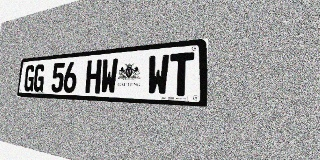5: (51, 62, 65, 93)
6: (63, 61, 78, 93)
G: (33, 64, 45, 92), (23, 65, 35, 92)
H: (85, 59, 102, 94)
T: (169, 52, 194, 96)
W: (147, 54, 170, 96), (100, 58, 118, 94)
